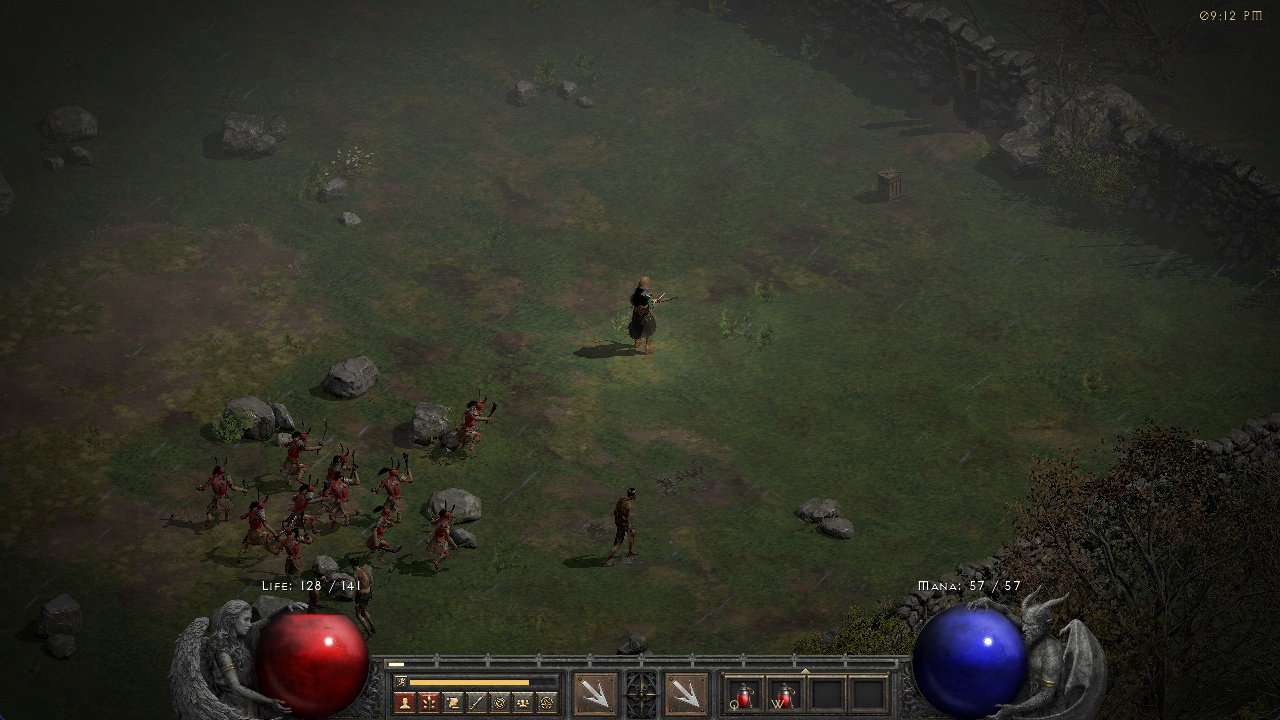fallen: (189, 459, 238, 532), (452, 395, 503, 454), (236, 498, 281, 561), (413, 500, 457, 561), (311, 474, 352, 525), (282, 425, 318, 472), (273, 525, 303, 578), (377, 463, 414, 504), (288, 483, 323, 522), (376, 504, 401, 552), (330, 453, 351, 468)
